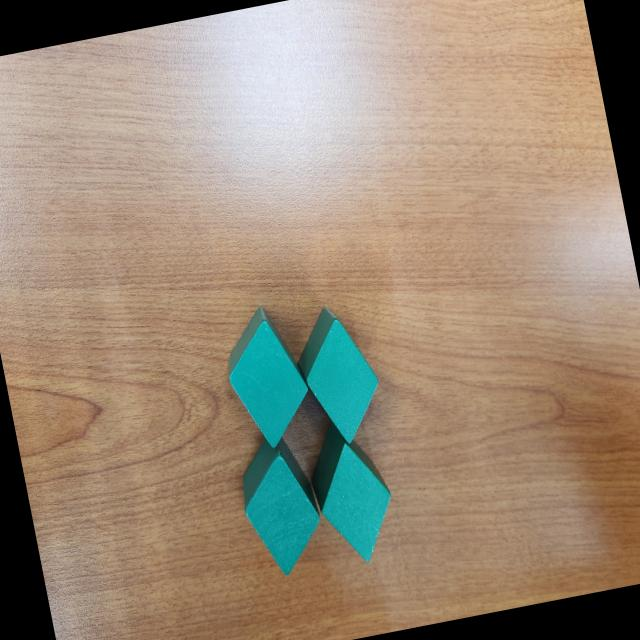green: (300, 412, 402, 569), (216, 300, 318, 456), (288, 300, 390, 450), (231, 432, 330, 581)
